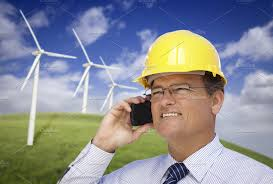Person_wearing_helmet: (131, 26, 228, 97)
